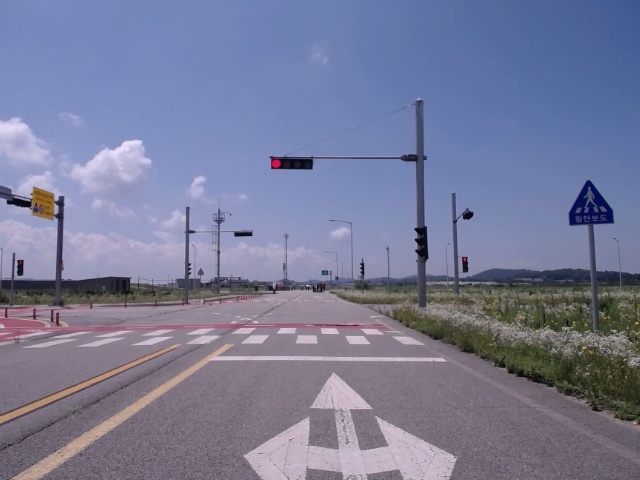red_4: (270, 158, 313, 170)
